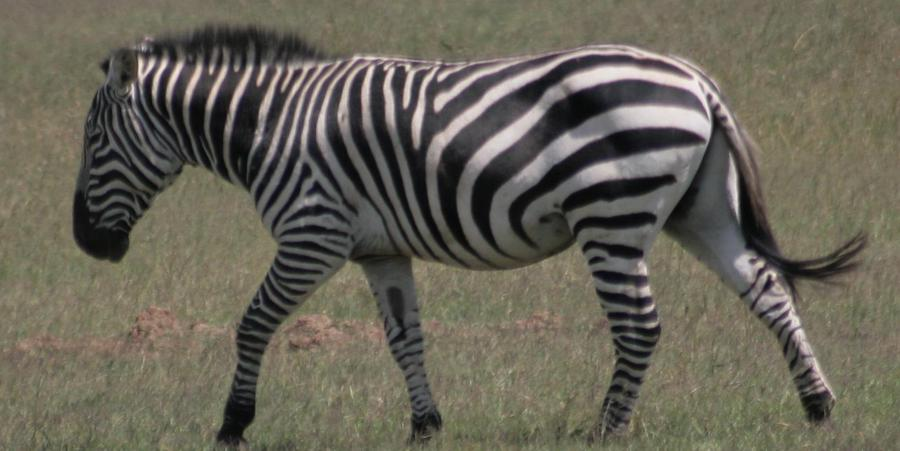zebra_plains: (219, 11, 701, 310)
